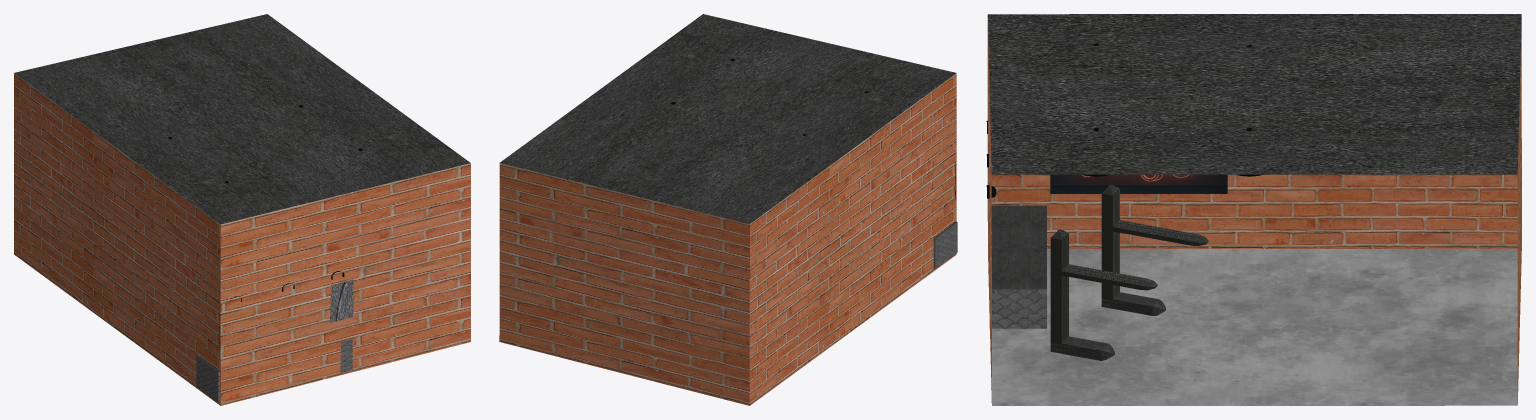
The model's file is GarageFinal.fbx.
3 views of the same model, side by side, from view 1: azimuth 30°, elevation 25°; view 2: azimuth 150°, elevation 25°; view 3: azimuth 270°, elevation 25° (orthographic). The views are drawn at different scales.
Parts seen in each view (by area): view 1: Cubo, Cube.003, Cube.004; view 2: Cubo, Cube.003; view 3: Cubo, Cubo.001, Cube.003, Cube.005.
Part boxes in pixels (x1,y1,x2,y2): Cubo: [14, 14, 470, 405]; Cube.003: [196, 339, 352, 402]; Cube.004: [219, 279, 353, 349]; Cubo: [499, 14, 956, 405]; Cube.003: [933, 222, 957, 268]; Cubo: [987, 14, 1521, 405]; Cubo.001: [1050, 185, 1208, 360]; Cube.003: [989, 205, 1046, 328]; Cube.005: [1050, 174, 1227, 193].
Size of the model in its own units: 897 by 615 by 1271.
Materials: 7 (6 with a texture image).
